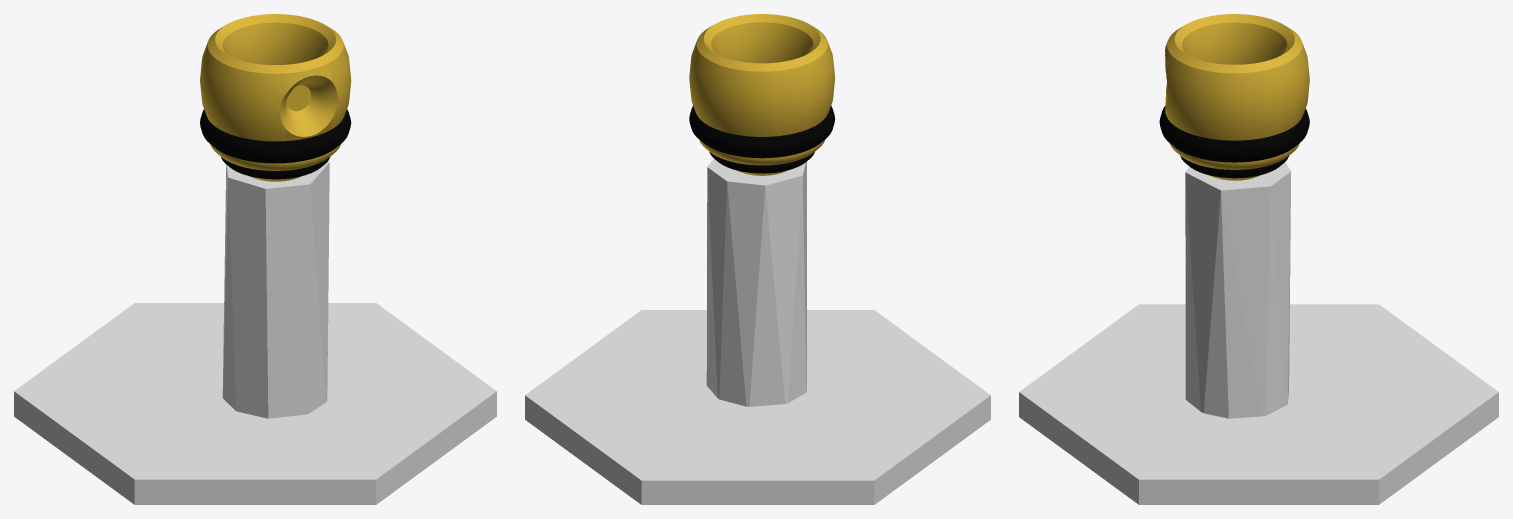
The model's file is cracked_wax.fbx.
3 views of the same model, side by side, from view 1: azimuth 30°, elevation 25°; view 2: azimuth 150°, elevation 25°; view 3: azimuth 270°, elevation 25° (orthographic). The views are drawn at different scales.
Parts seen in each view (by area): view 1: Torus.005; view 2: Torus.005; view 3: Torus.005.
Boxes of the visible parts, box(x1,y1,x2,y2) form: Torus.005: box(14, 14, 496, 504); Torus.005: box(525, 14, 990, 504); Torus.005: box(1019, 14, 1498, 504).
Bounding box in the file's own units: 173 × 176 × 200.
